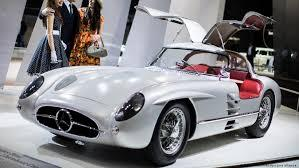mercedes: (55, 108, 72, 132)
